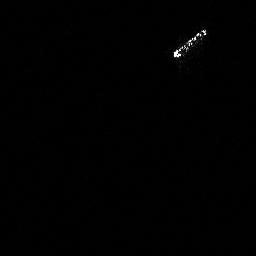ship: (169, 25, 211, 61)
